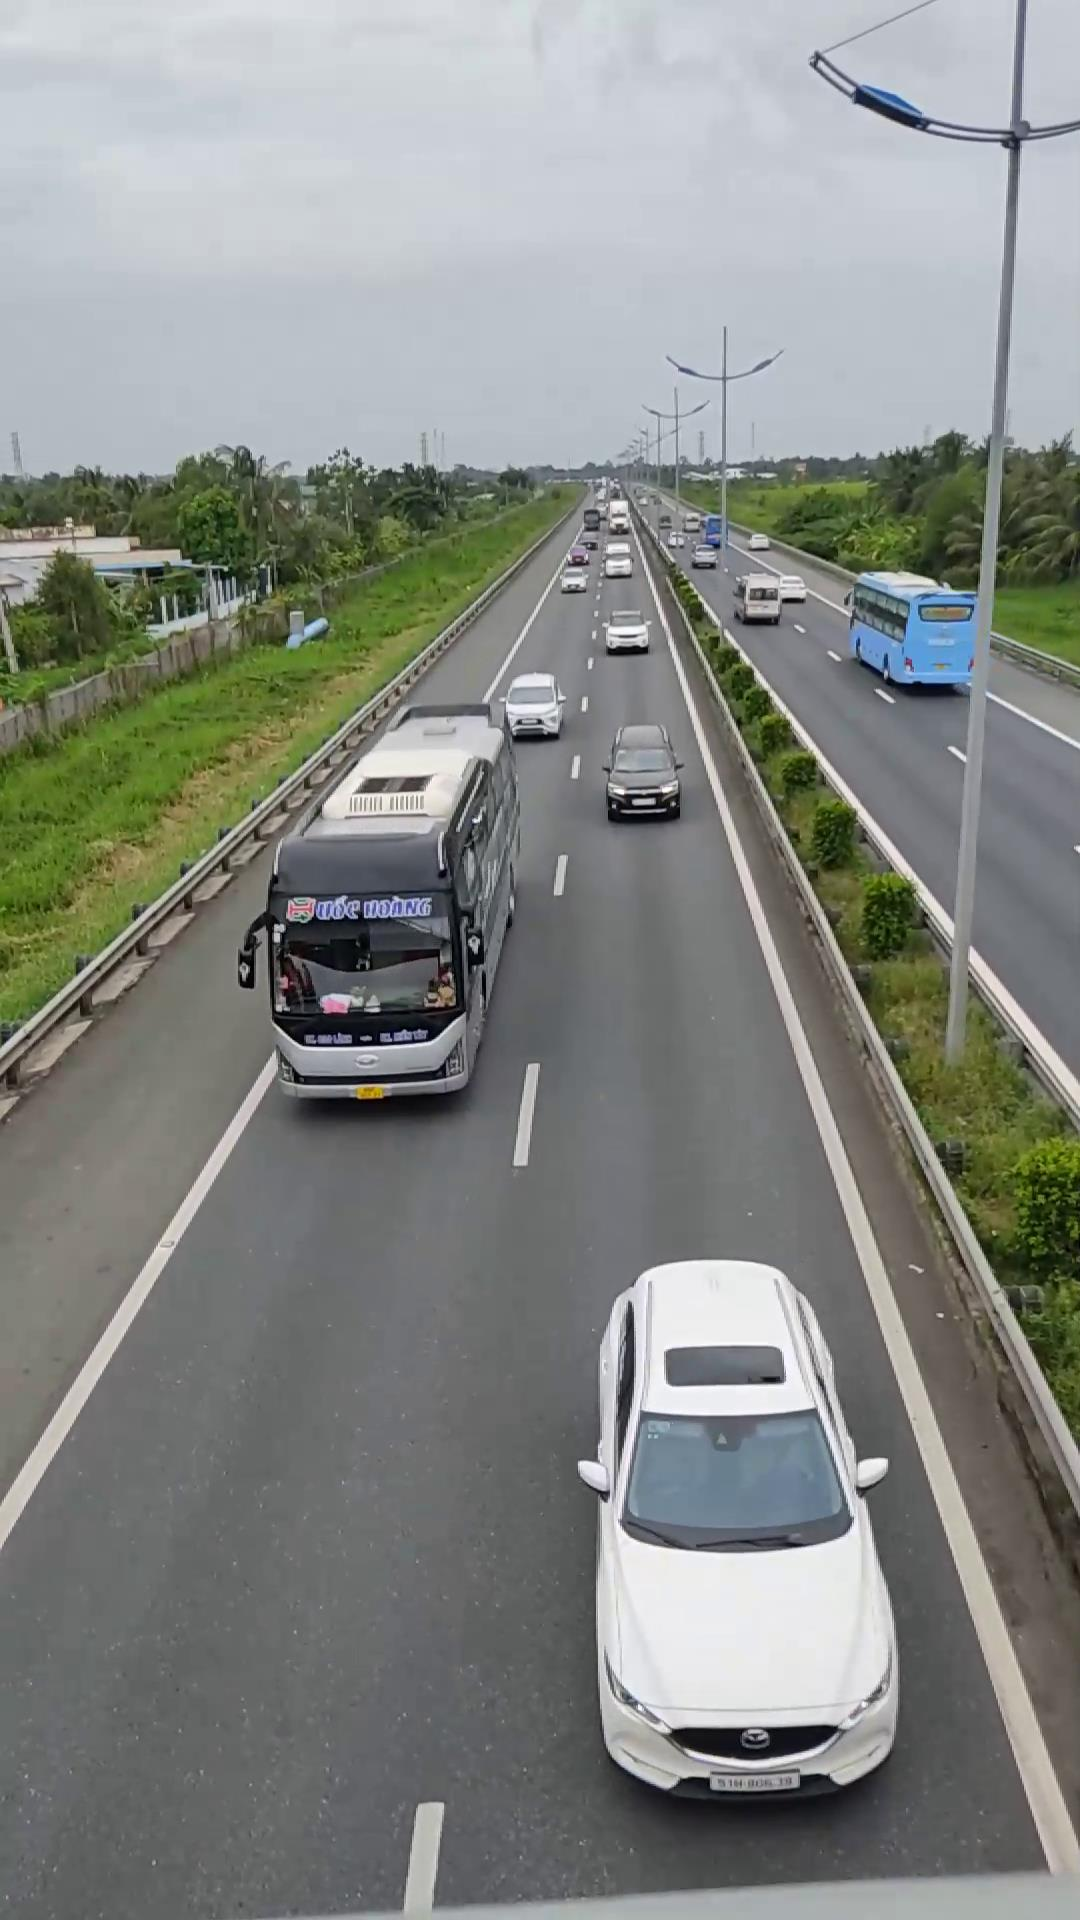bus: (255, 696, 513, 1097)
car: (578, 1255, 905, 1801), (601, 723, 684, 820), (495, 669, 566, 738)
